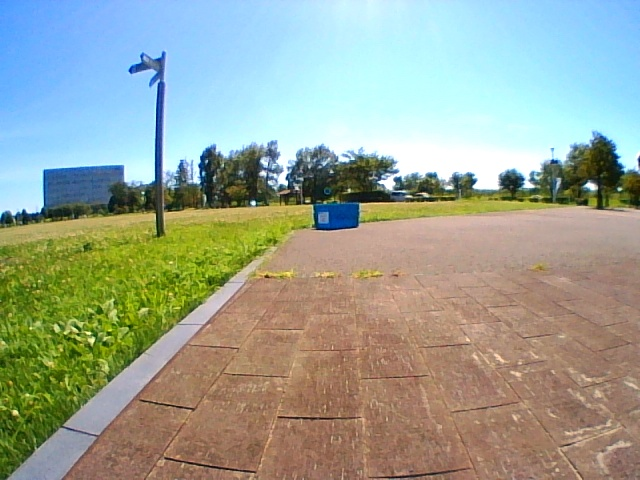blue_box: (313, 203, 358, 230)
tag: (318, 211, 328, 223)
